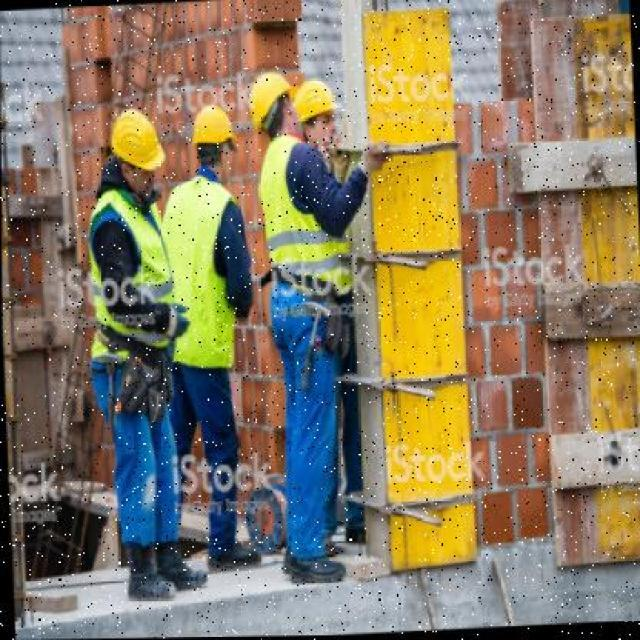helmet: (106, 103, 165, 179), (245, 74, 293, 138), (291, 79, 342, 132), (189, 106, 235, 150)
vest: (257, 137, 343, 319), (168, 188, 243, 375)
